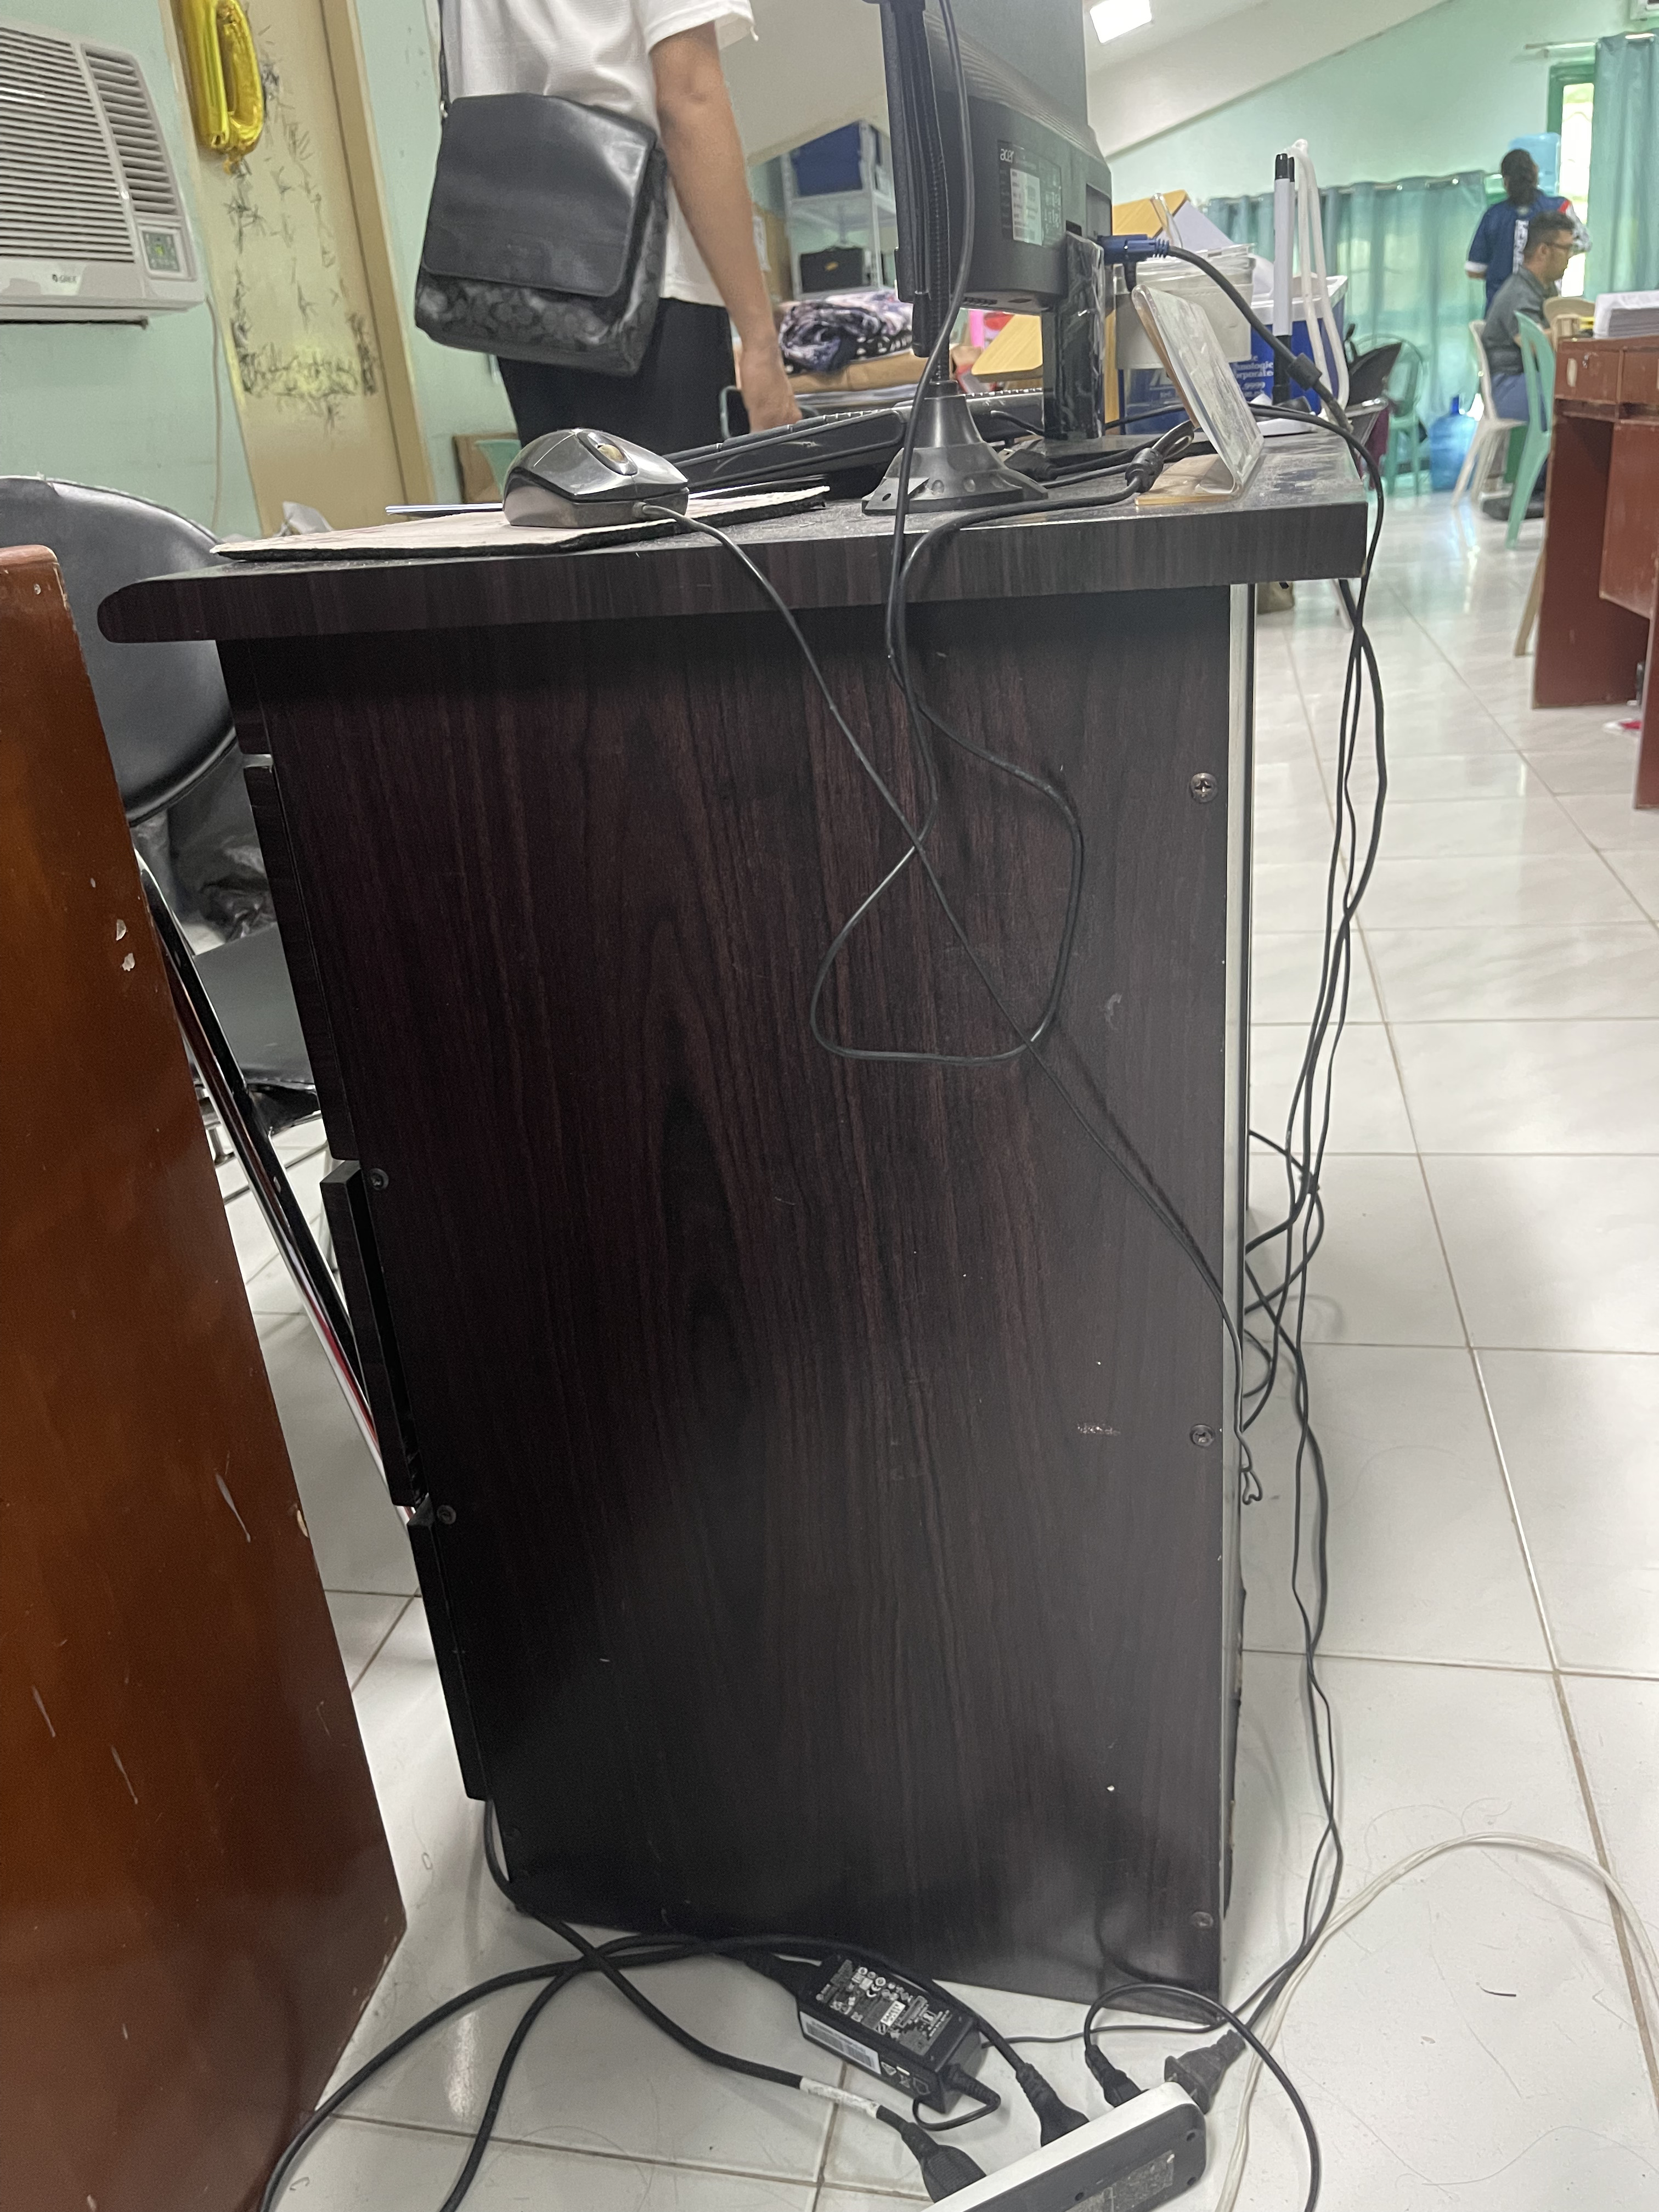table1: (108, 420, 1419, 2024)
